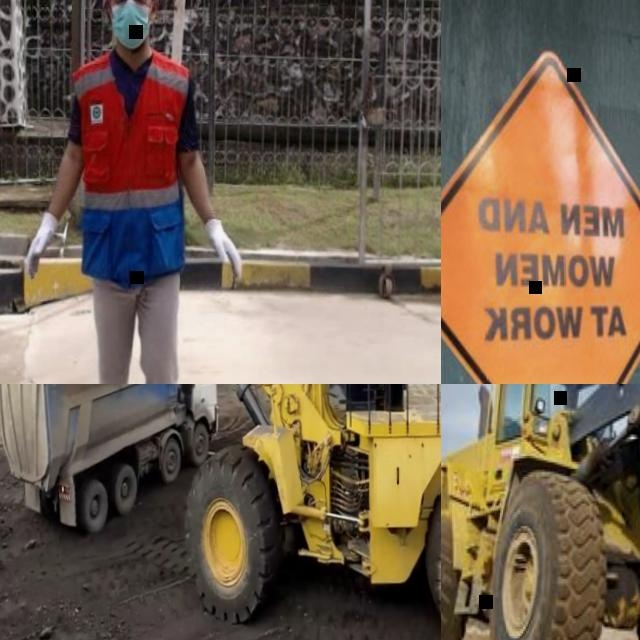Mask: (108, 0, 154, 49)
Person: (14, 0, 249, 384), (586, 25, 640, 384)
Safety Vest: (71, 47, 194, 215)
machinery: (32, 384, 441, 640), (441, 384, 640, 640), (0, 384, 220, 539)
